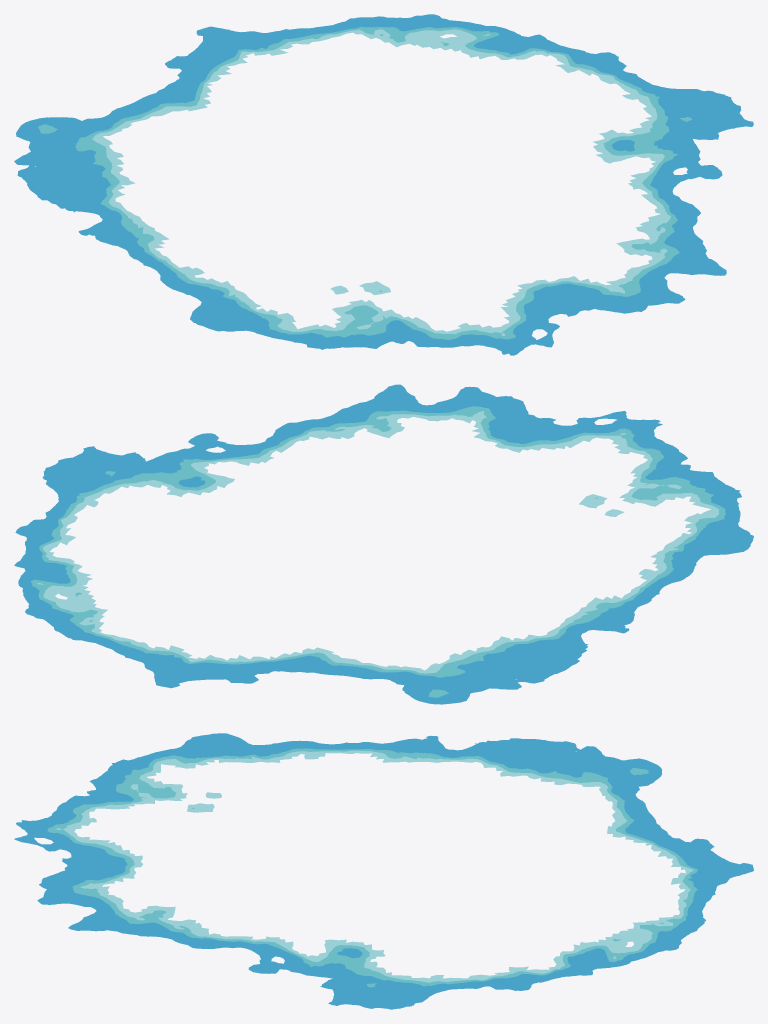
File: Isl-rocky2-Water.fbx
The picture shows the model from 3 angles, top to bottom: view 1: azimuth 30°, elevation 25°; view 2: azimuth 150°, elevation 25°; view 3: azimuth 270°, elevation 25°; orthographic projection. The views are drawn at different scales.
Parts seen in each view (by area): view 1: Isl-rocky2-Water; view 2: Isl-rocky2-Water; view 3: Isl-rocky2-Water.
Part boxes in pixels (box(x1,y1,x2,y2)): Isl-rocky2-Water: box(14, 14, 753, 355); Isl-rocky2-Water: box(14, 384, 753, 704); Isl-rocky2-Water: box(14, 733, 753, 1009).
Size of the model in its own units: 99.91 by 0 by 113.
